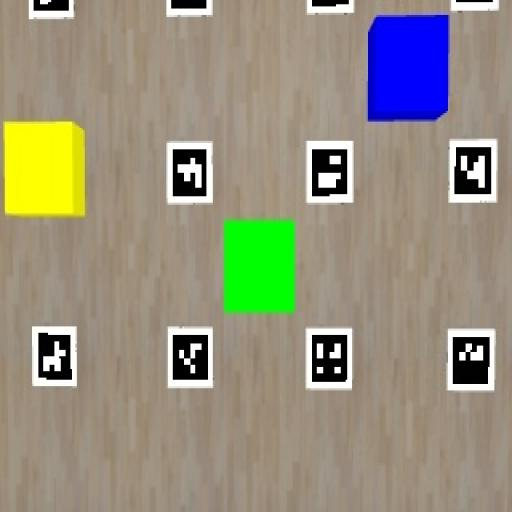car: (367, 15, 449, 121), (224, 220, 295, 313)
fire: (4, 122, 86, 217)
